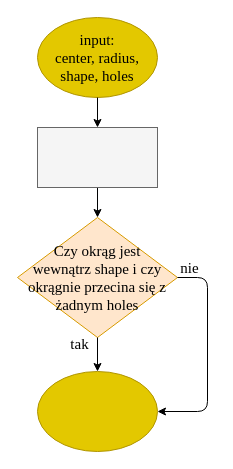
The diagram is 233 pixels wide and 469 high, and some of its shapes have lost their labels. Each missing label, with the centre of its shape:
"return: boolean" belongs at (97,411).
"Utworzenie okręgu o promieniu radius i środku center" belongs at (97,157).
